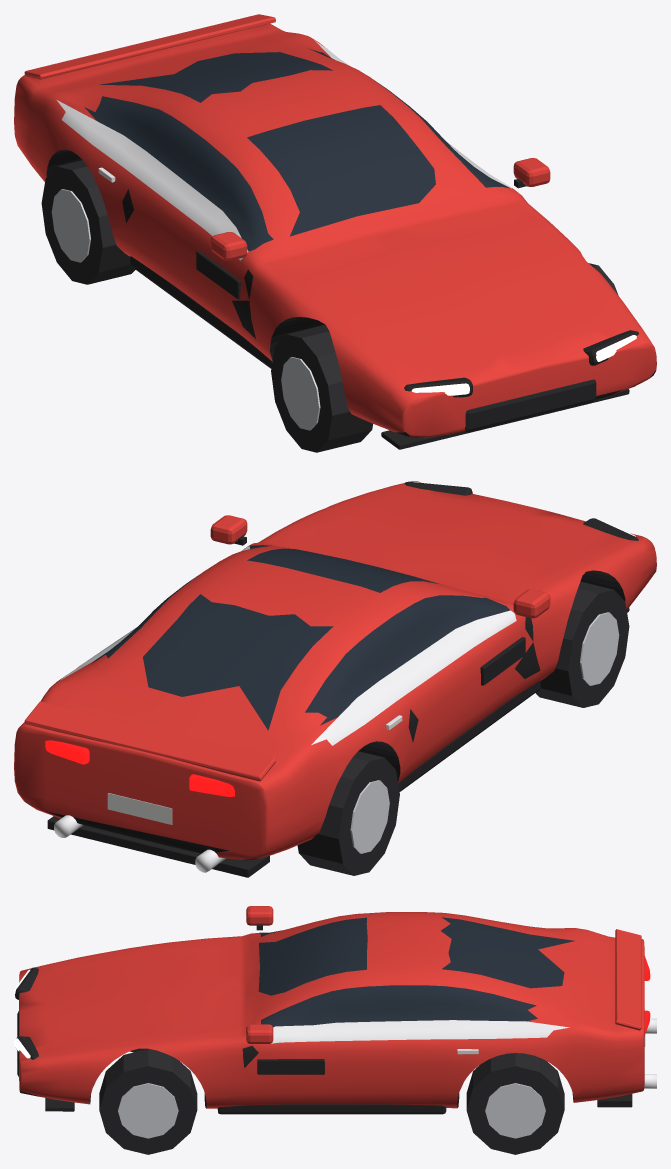
File: aurum_lod.glb
The picture shows the model from 3 angles, top to bottom: view 1: azimuth 30°, elevation 25°; view 2: azimuth 150°, elevation 25°; view 3: azimuth 270°, elevation 25°; orthographic projection. The views are drawn at different scales.
Parts seen in each view (by area): view 1: body, wheel_fr, wheel_rr; view 2: body, wheel_rr, wheel_fr; view 3: body, wheel_fl, wheel_rl.
Part boxes in pixels (x1,y1,x2,y2): body: [14, 14, 656, 449]; wheel_fr: [271, 325, 372, 452]; wheel_rr: [41, 160, 135, 284]; body: [14, 481, 656, 877]; wheel_rr: [297, 751, 399, 875]; wheel_fr: [535, 581, 629, 707]; body: [14, 906, 656, 1114]; wheel_fl: [99, 1049, 197, 1154]; wheel_rl: [466, 1053, 564, 1154].
Size of the model in its own units: 2.22 by 1.27 by 4.73.
